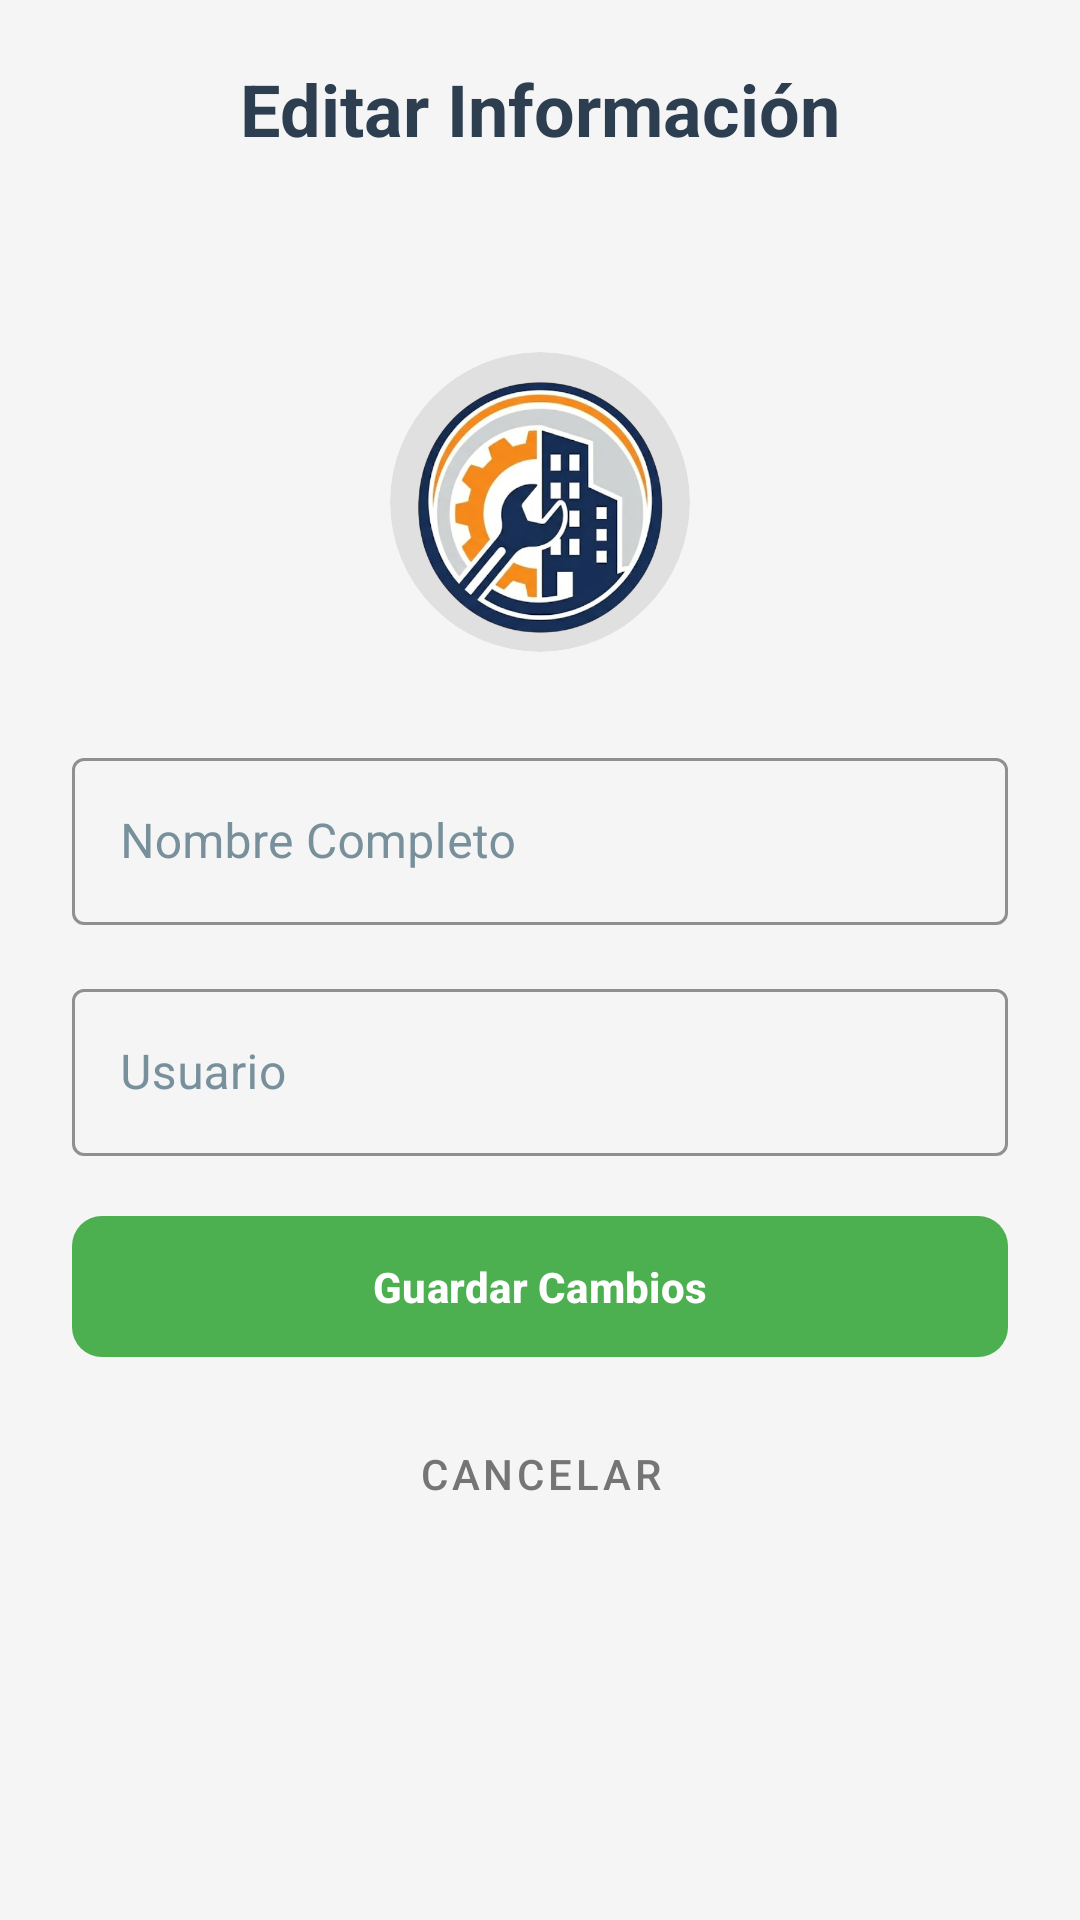

Locate icon controls on the screen. Image size 1080*1920, boxes as (x1, y1, x2, y2).
systemmanager sinfondo: (418, 382, 663, 633)
